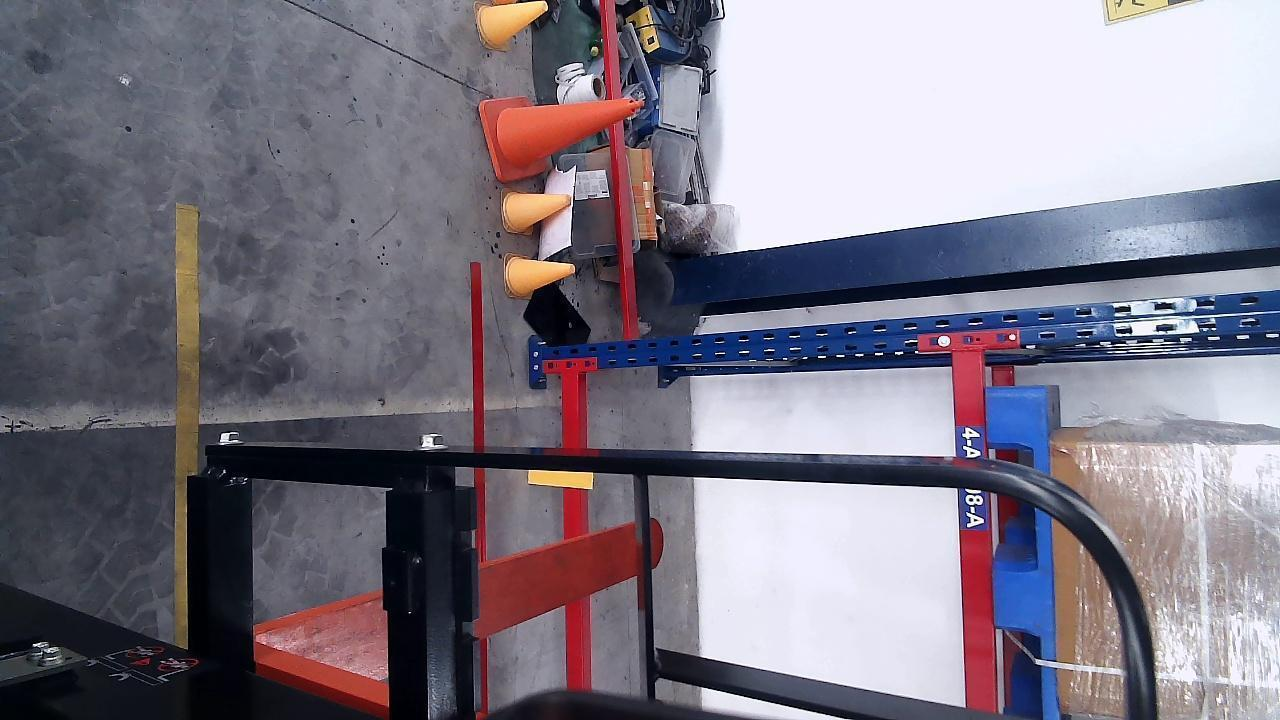red_line: (469, 262, 490, 716)
yellow_line: (174, 205, 199, 471)
